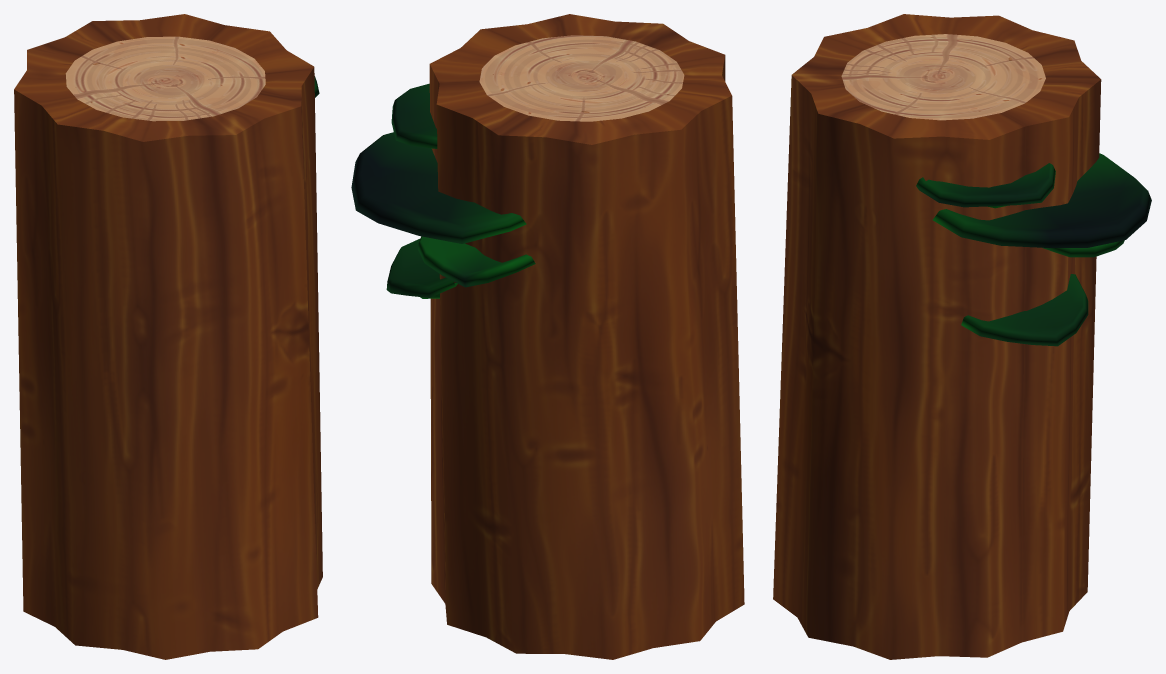
Rendered from obj_harvests_trees_pine03_p04.fbx.
3 renders of one model, left to right at view 1: azimuth 30°, elevation 25°; view 2: azimuth 150°, elevation 25°; view 3: azimuth 270°, elevation 25°, orthographic.
Parts seen in each view (by area): view 1: chunk04; view 2: chunk04; view 3: chunk04.
Part boxes in pixels (x1=…): chunk04: x1=14, y1=14, x2=322, y2=659; chunk04: x1=351, y1=14, x2=744, y2=659; chunk04: x1=773, y1=14, x2=1151, y2=659.
Size of the model in its own units: 4.91 by 8 by 5.3.
